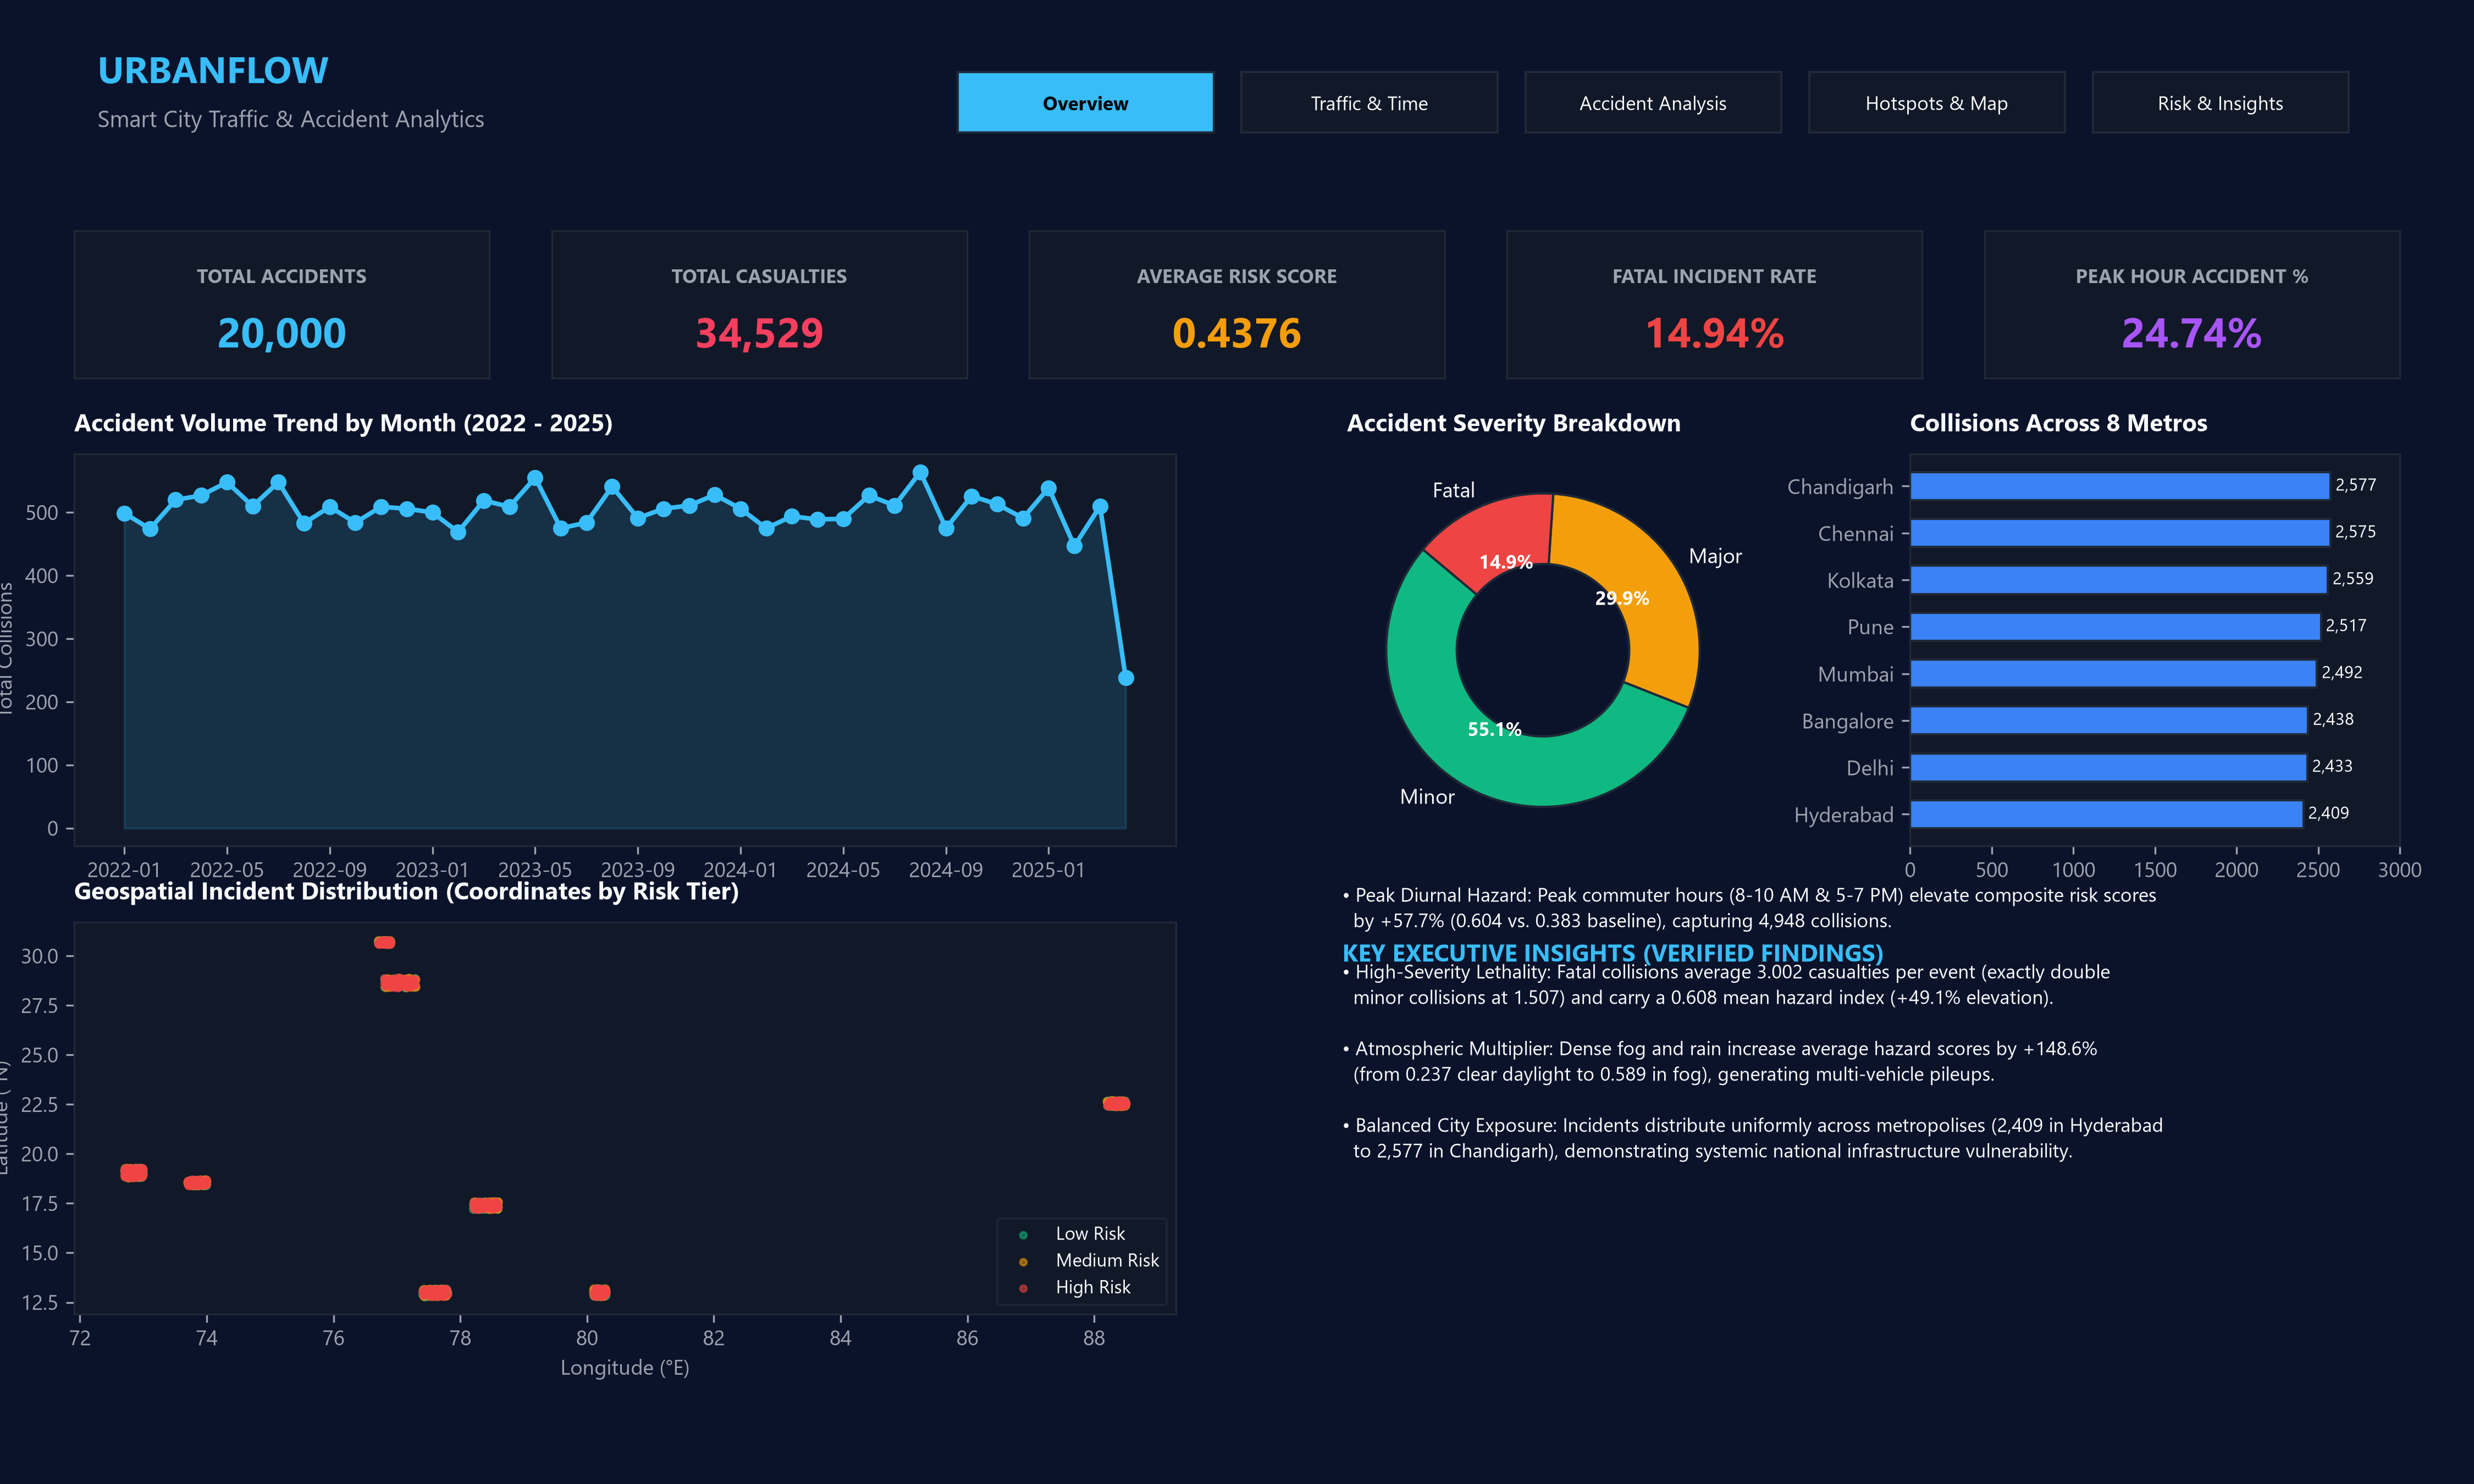

The page's visual inventory and layout, read from the dashboard file:
{"tool":"powerbi","page":{"name":"Overview","canvas":[1920,1080],"ordinal":0},"visuals":[{"type":"cardVisual","fields":{"Data":["Dim_Calendar.Total Accidents"]},"box":[28.3,108.3,230,170],"z":0},{"type":"cardVisual","fields":{"Data":["Dim_Calendar.Total Casualties"]},"box":[295,108.3,240,170],"z":1000},{"type":"cardVisual","fields":{"Data":["Dim_Calendar.Total Vehicles"]},"box":[841.7,108.3,236.7,170],"z":2000},{"type":"cardVisual","fields":{"Data":["Dim_Calendar.Average Risk Score"]},"box":[1121.7,108.3,236.7,170],"z":3000},{"type":"lineChart","title":"Monthly Accident Trend","fields":{"Category":["Dim_Calendar.YearMonth"],"Y":["Dim_Calendar.Total Accidents"]},"box":[403.3,388.3,1113.3,593.3],"z":4000},{"type":"donutChart","title":"Accident Severity Distribution","fields":{"Category":["urbanflow_cleaned.accident_severity"],"Y":["Dim_Calendar.Total Accidents"]},"box":[1610,126.7,293.3,236.7],"z":5000},{"type":"clusteredBarChart","title":"Accidents by City","fields":{"Category":["urbanflow_cleaned.city"],"Y":["Dim_Calendar.Total Accidents"]},"box":[16.7,430,340,393.3],"z":6000},{"type":"clusteredBarChart","title":"Accidents by Risk Category 📊","fields":{"Category":["urbanflow_cleaned.risk_category"],"Y":["Dim_Calendar.Total Accidents"]},"box":[1550,410,350,413.3],"z":7000},{"type":"textSlicer","fields":{"Values":["urbanflow_cleaned.city"]},"box":[1395,125,155,136.7],"z":8000},{"type":"textbox","box":[356.7,20,1291.7,88.3],"z":9000},{"type":"cardVisual","fields":{"Data":["Dim_Calendar.High Risk Accidents"]},"box":[573.3,108.3,231.7,170],"z":10000}]}

Visuals, with their boxes on the page's 1920x1080 design canvas (x1, y1, x2, y2). These are canvas units, not pixel positions in the 2474x1484 screenshot, which may show the page scaled, cropped or inside an application window:
cardVisual - Dim_Calendar.Total Accidents: [28, 108, 258, 278]
cardVisual - Dim_Calendar.Total Casualties: [295, 108, 535, 278]
cardVisual - Dim_Calendar.Total Vehicles: [842, 108, 1078, 278]
cardVisual - Dim_Calendar.Average Risk Score: [1122, 108, 1358, 278]
"Monthly Accident Trend" lineChart: [403, 388, 1517, 982]
"Accident Severity Distribution" donutChart: [1610, 127, 1903, 363]
"Accidents by City" clusteredBarChart: [17, 430, 357, 823]
"Accidents by Risk Category 📊" clusteredBarChart: [1550, 410, 1900, 823]
textSlicer - urbanflow_cleaned.city: [1395, 125, 1550, 262]
textbox: [357, 20, 1648, 108]
cardVisual - Dim_Calendar.High Risk Accidents: [573, 108, 805, 278]
